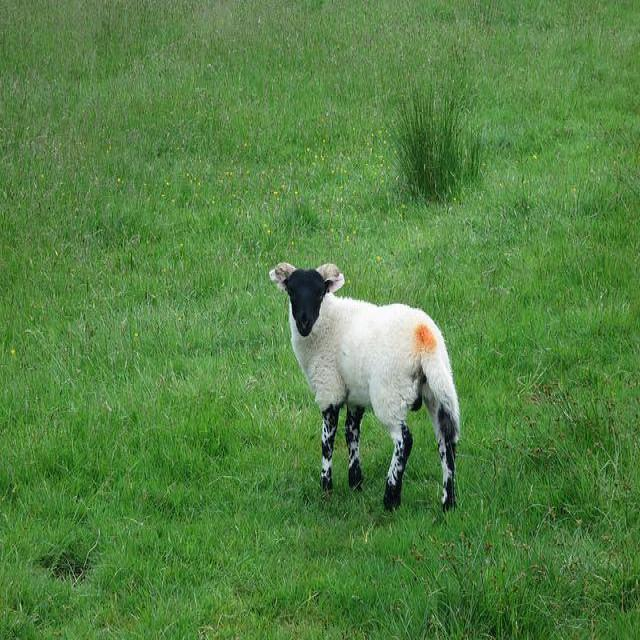Sheep: (263, 263, 463, 520)
